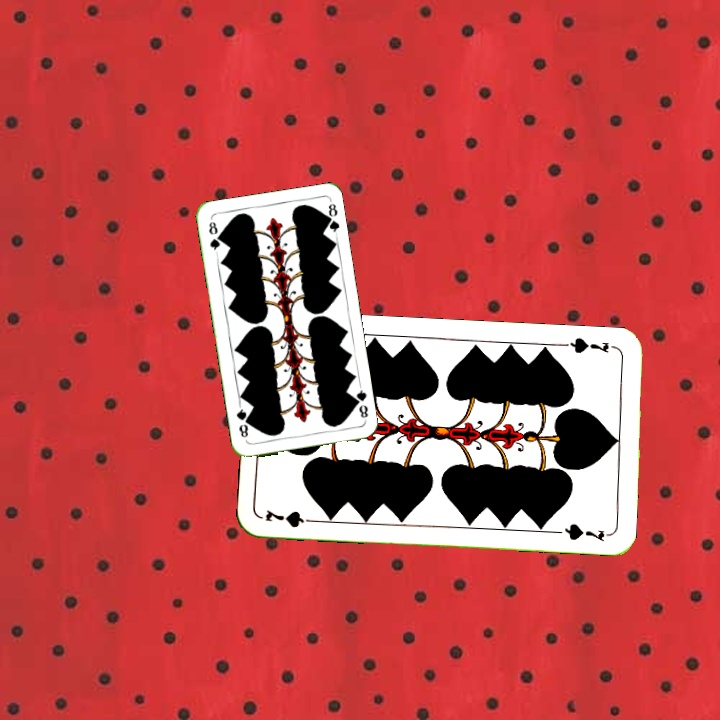G7: (261, 506, 320, 530), (560, 333, 612, 356)
G8: (349, 383, 371, 421), (205, 217, 222, 256)
